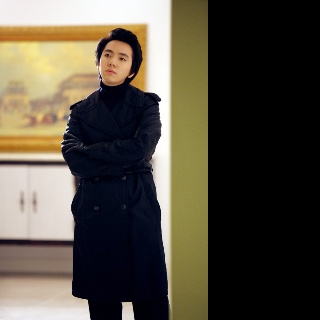without_mask: (98, 39, 132, 82)
